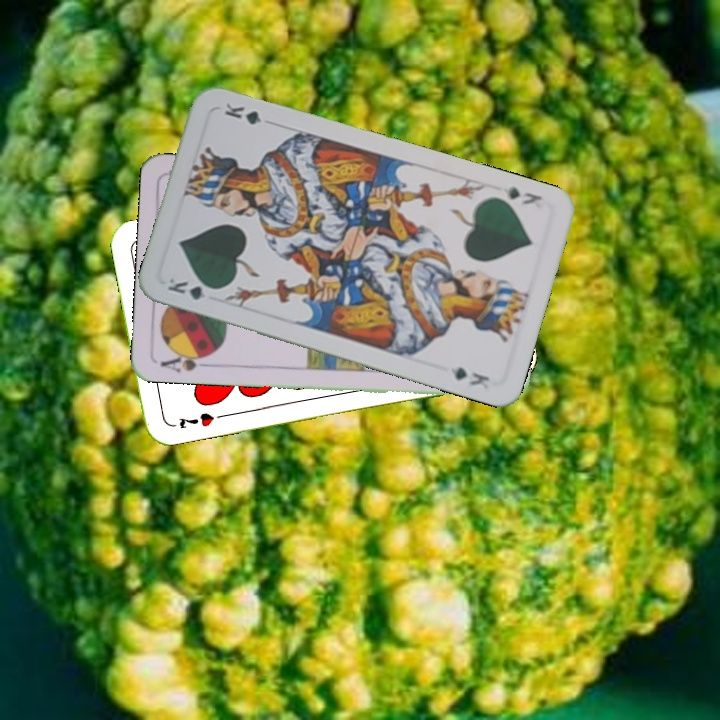GK: (163, 273, 221, 303), (498, 183, 544, 208)
H7: (175, 408, 217, 432)
SA: (156, 347, 215, 375)
